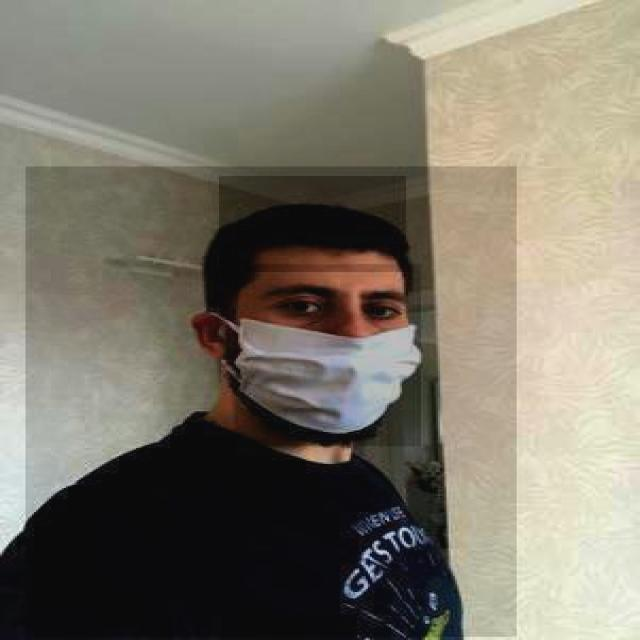face_mask: (234, 264, 421, 446)
head_nohelmet: (219, 176, 406, 272)
person: (25, 166, 519, 638)
